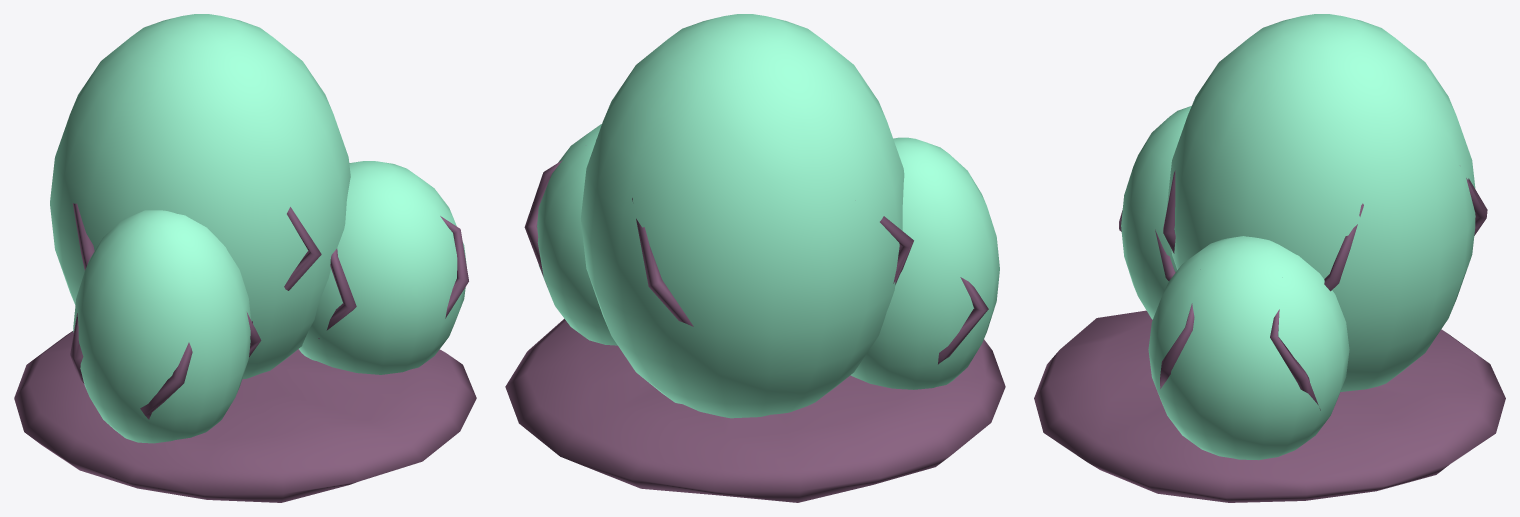
File: egg.glb
3 renders of one model, left to right at view 1: azimuth 30°, elevation 25°; view 2: azimuth 150°, elevation 25°; view 3: azimuth 270°, elevation 25°, orthographic. The views are drawn at different scales.
Visible parts, largest first — view 1: skins, base; view 2: skins, base; view 3: skins, base.
Boxes of the visible parts, x1,y1,x2,y2 form: skins: (50, 14, 466, 443); base: (14, 203, 476, 502); skins: (537, 14, 999, 418); base: (505, 160, 1005, 502); skins: (1121, 14, 1475, 460); base: (1034, 170, 1505, 502).
Size of what is drawn, in the model's own units: 0.5162 by 0.4917 by 0.5163.
